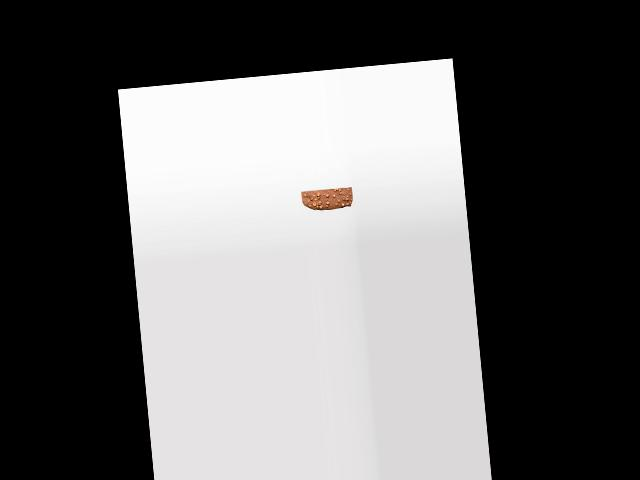chocolate: (301, 184, 353, 215)
